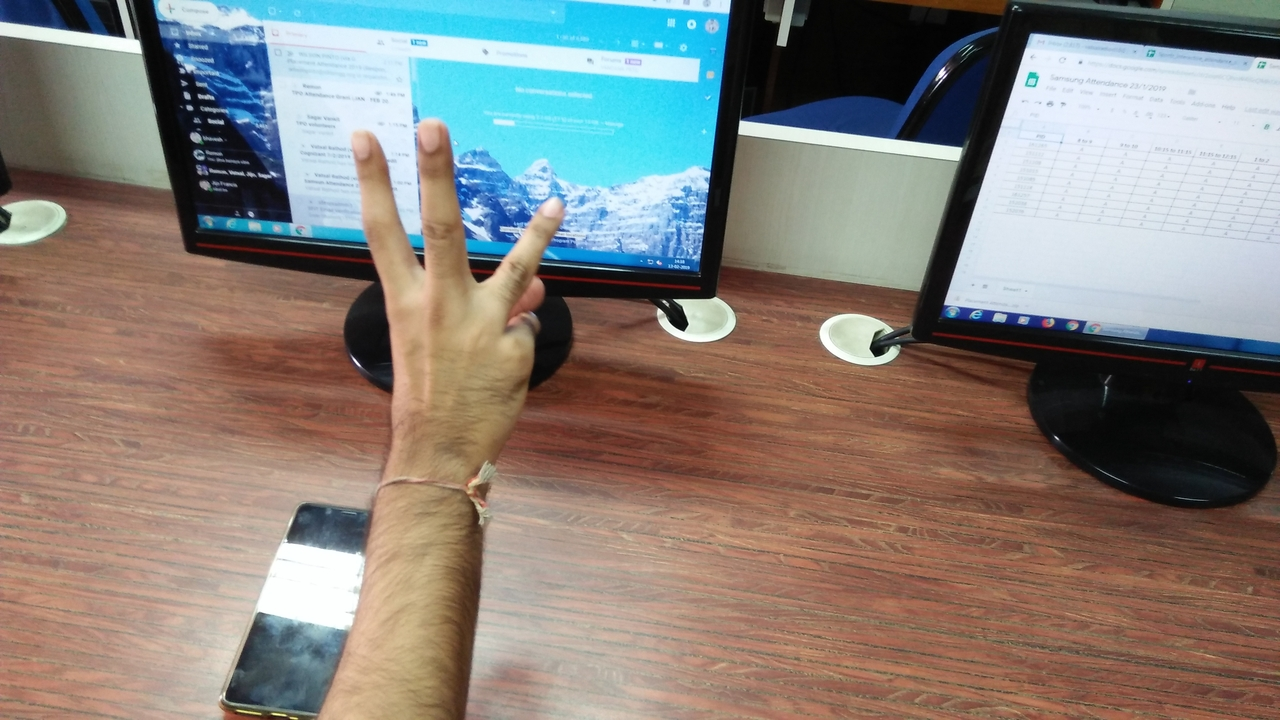fingertip: (406, 112, 458, 158), (522, 182, 568, 232), (336, 122, 386, 158)
